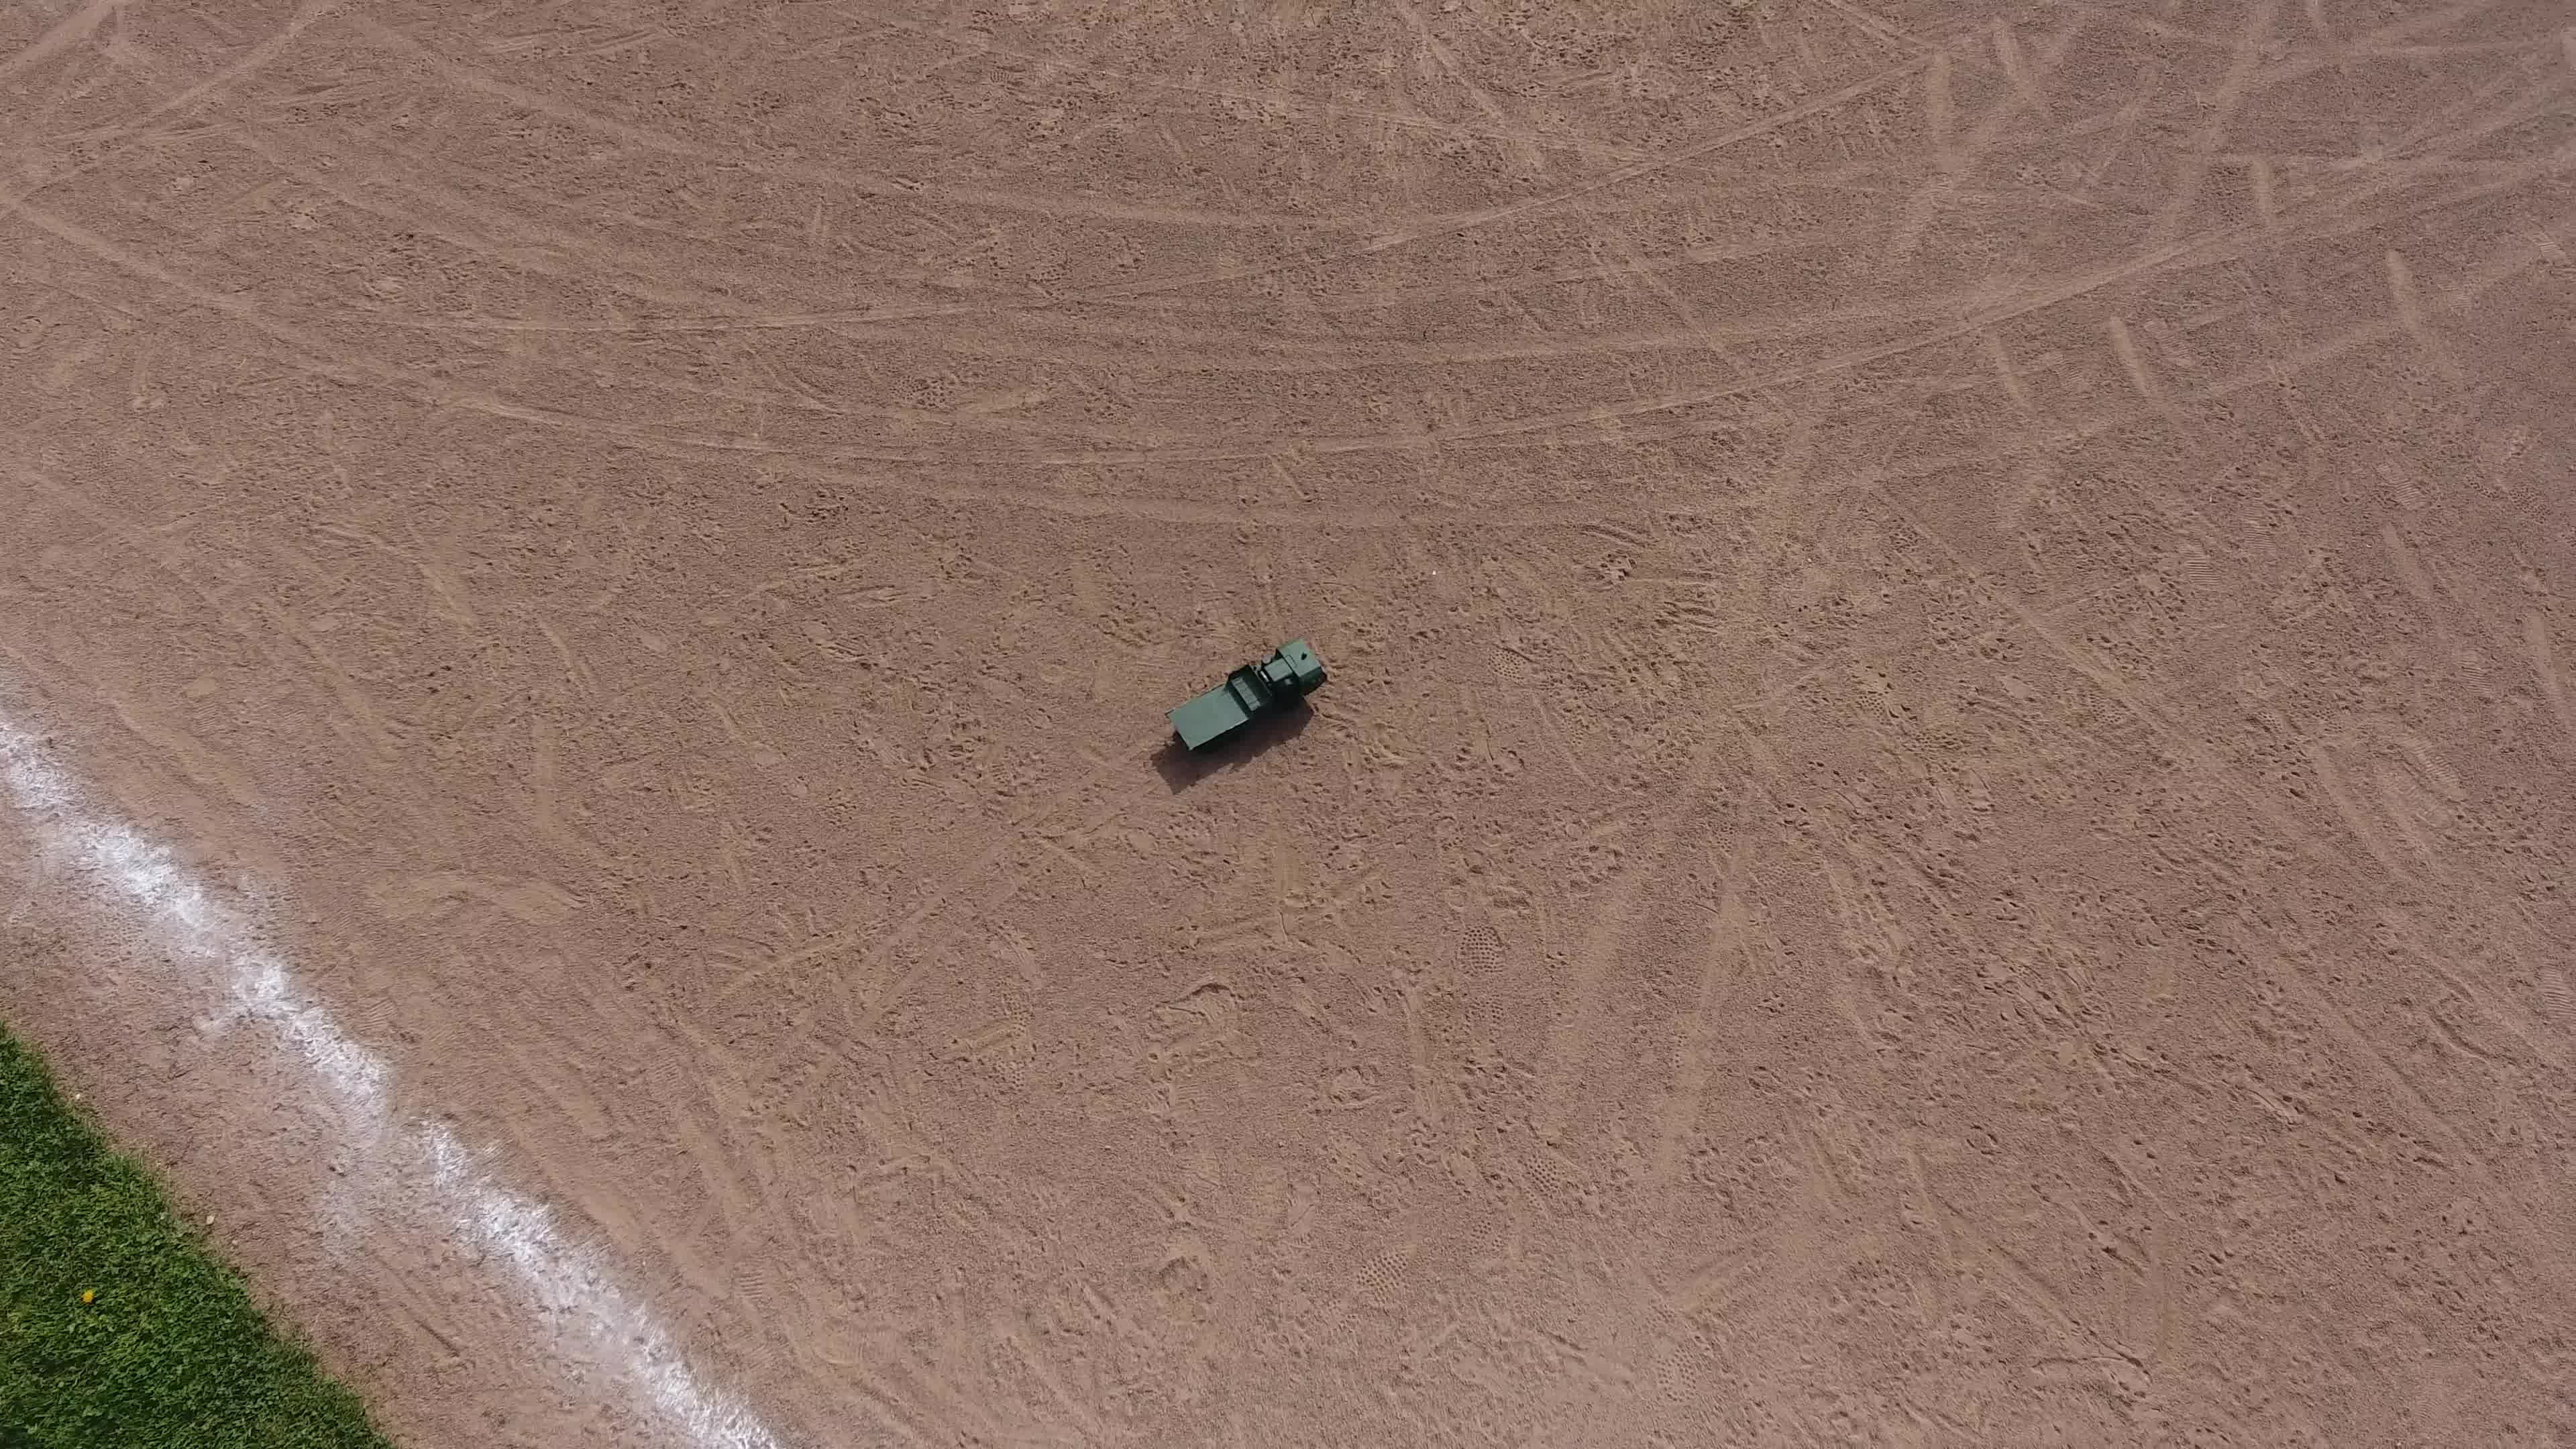transporter9: (1148, 632, 1339, 771)
